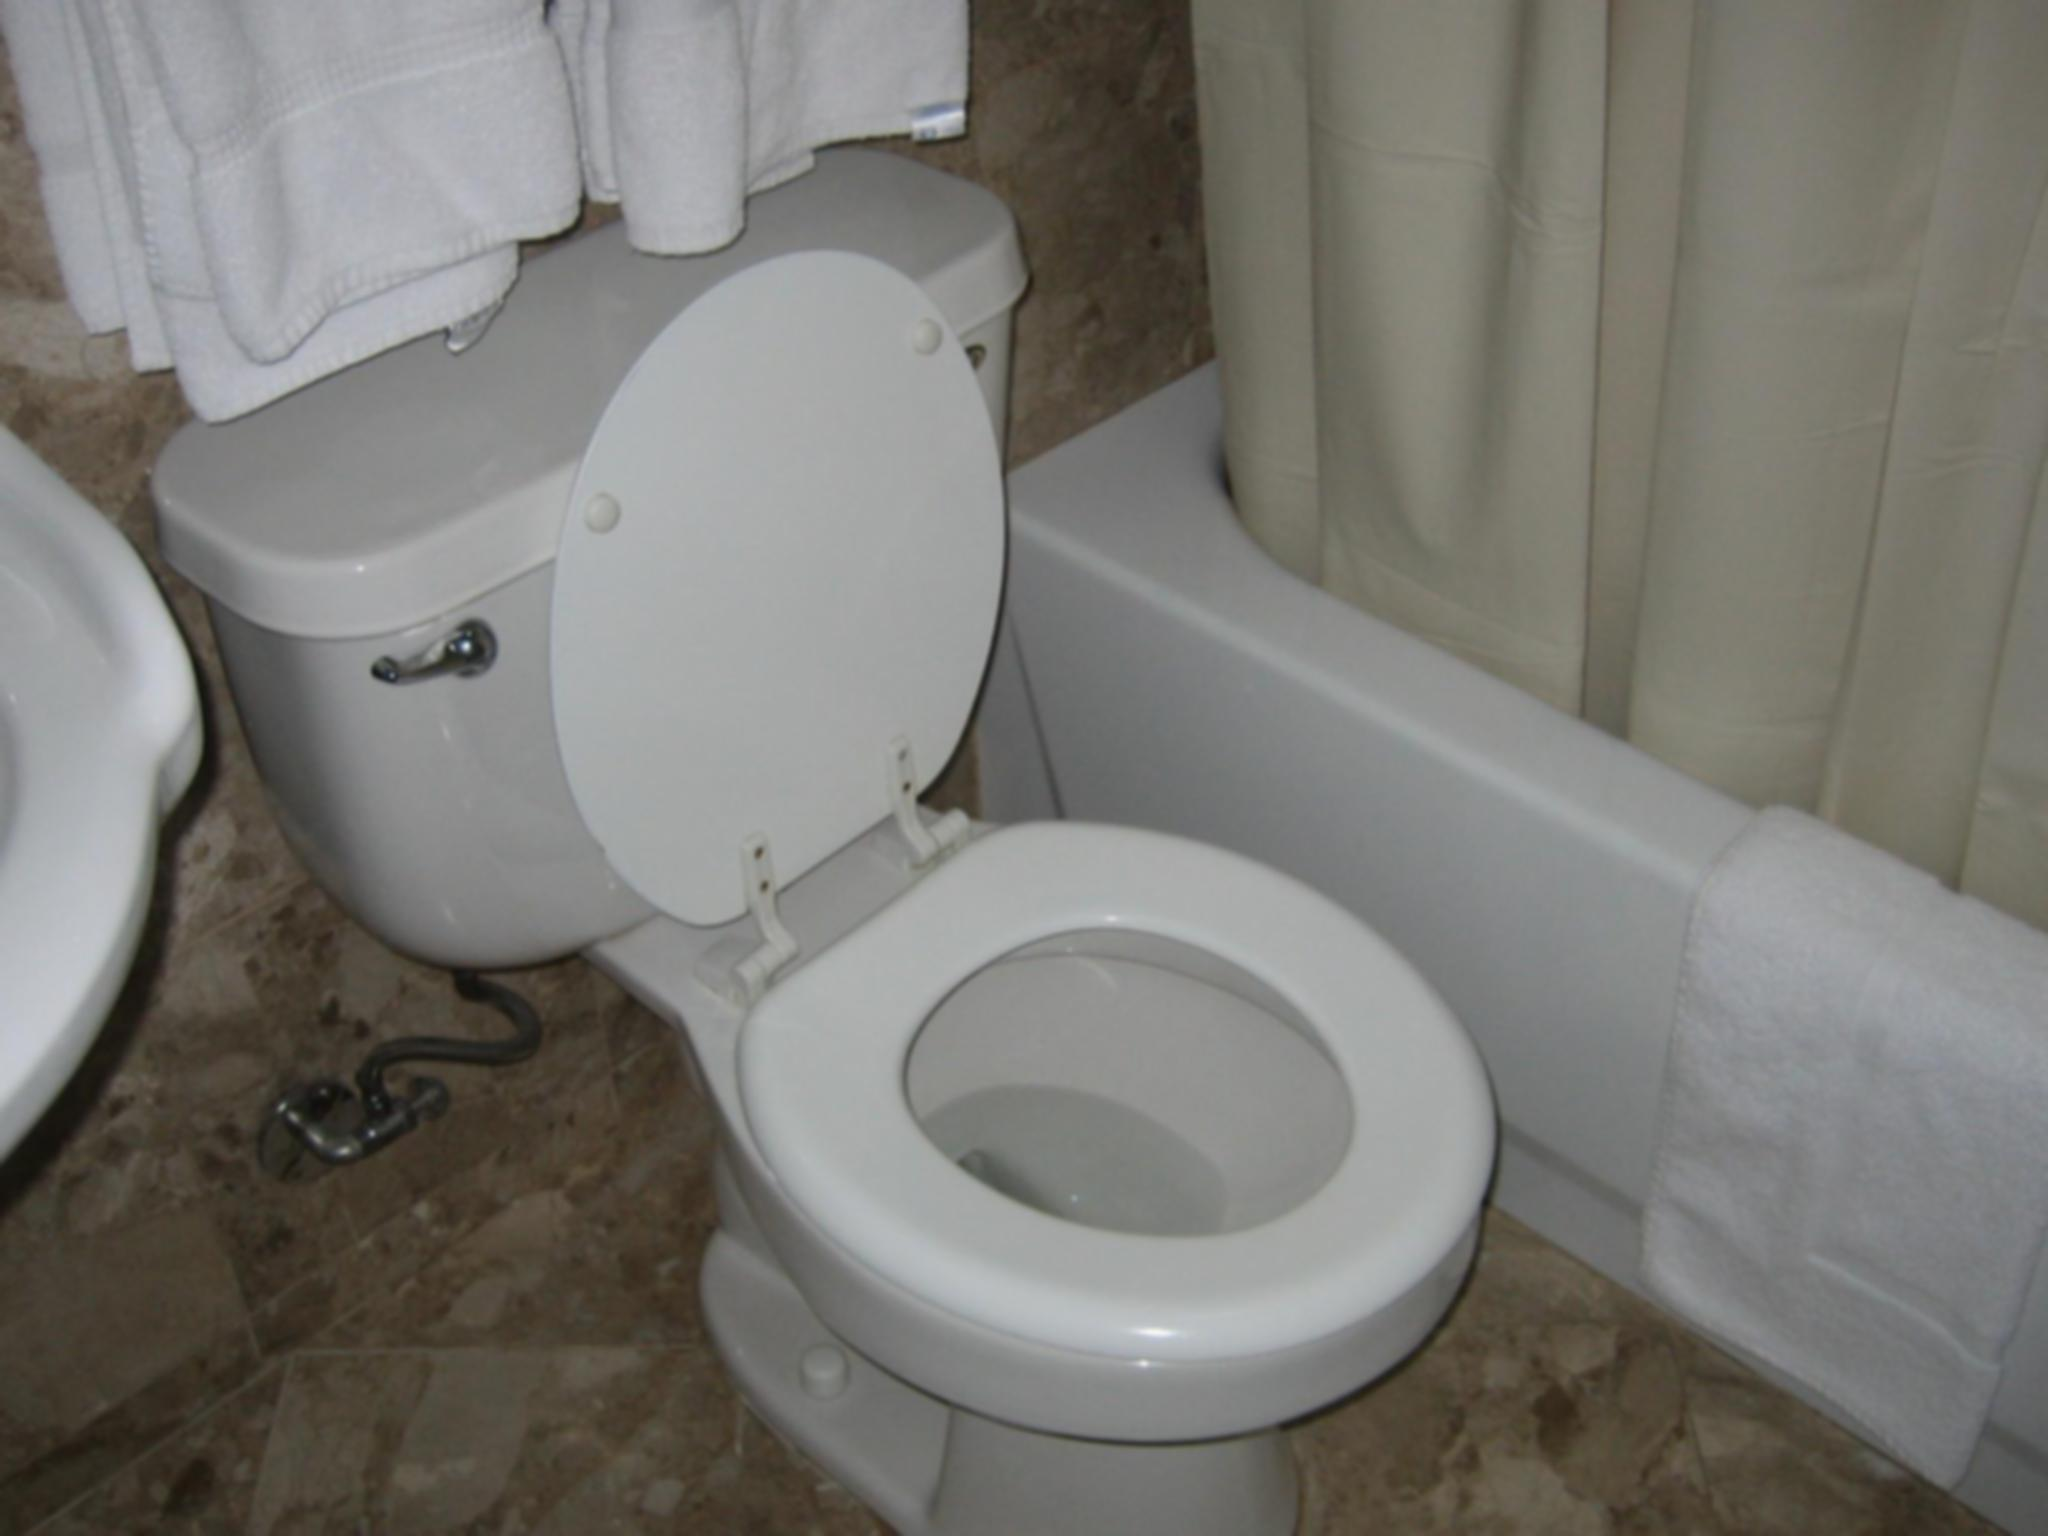Lavamanos: (0, 268, 213, 1430)
Sanitario: (206, 181, 1553, 1536)
